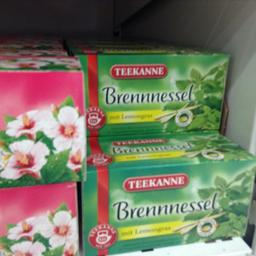tea: (81, 134, 255, 254), (70, 43, 228, 136)
